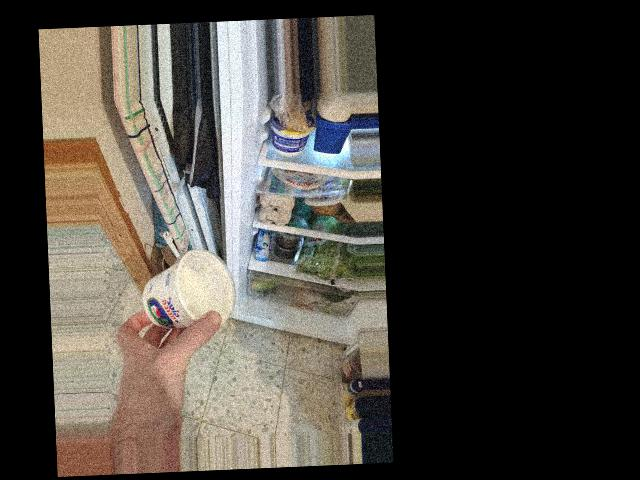cotage: (141, 254, 233, 332)
